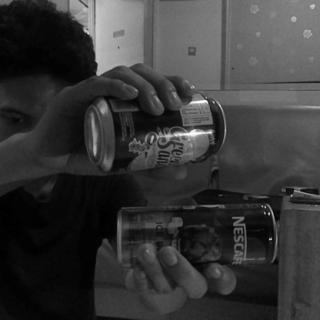alumunium_can: (114, 201, 276, 272), (84, 94, 224, 175)
